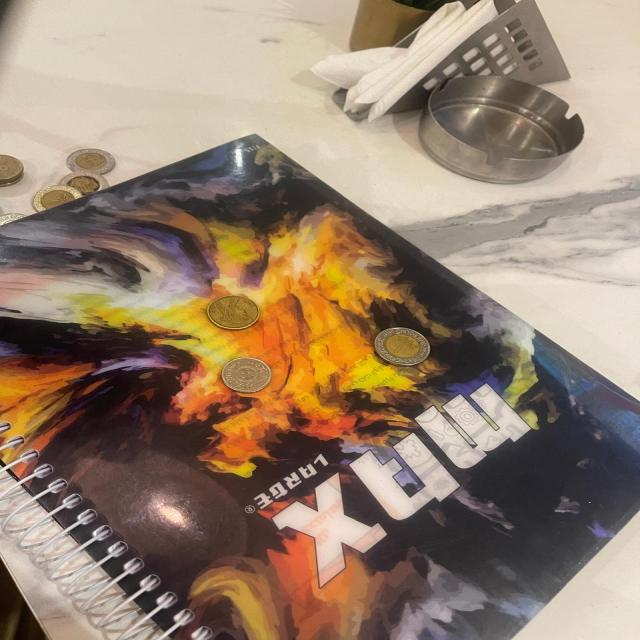Half Pound: (210, 295, 259, 331), (0, 149, 27, 180)
One Pound: (372, 321, 431, 375), (66, 144, 116, 174), (62, 170, 112, 196), (32, 186, 79, 212)
quarter pound: (218, 356, 278, 392)
